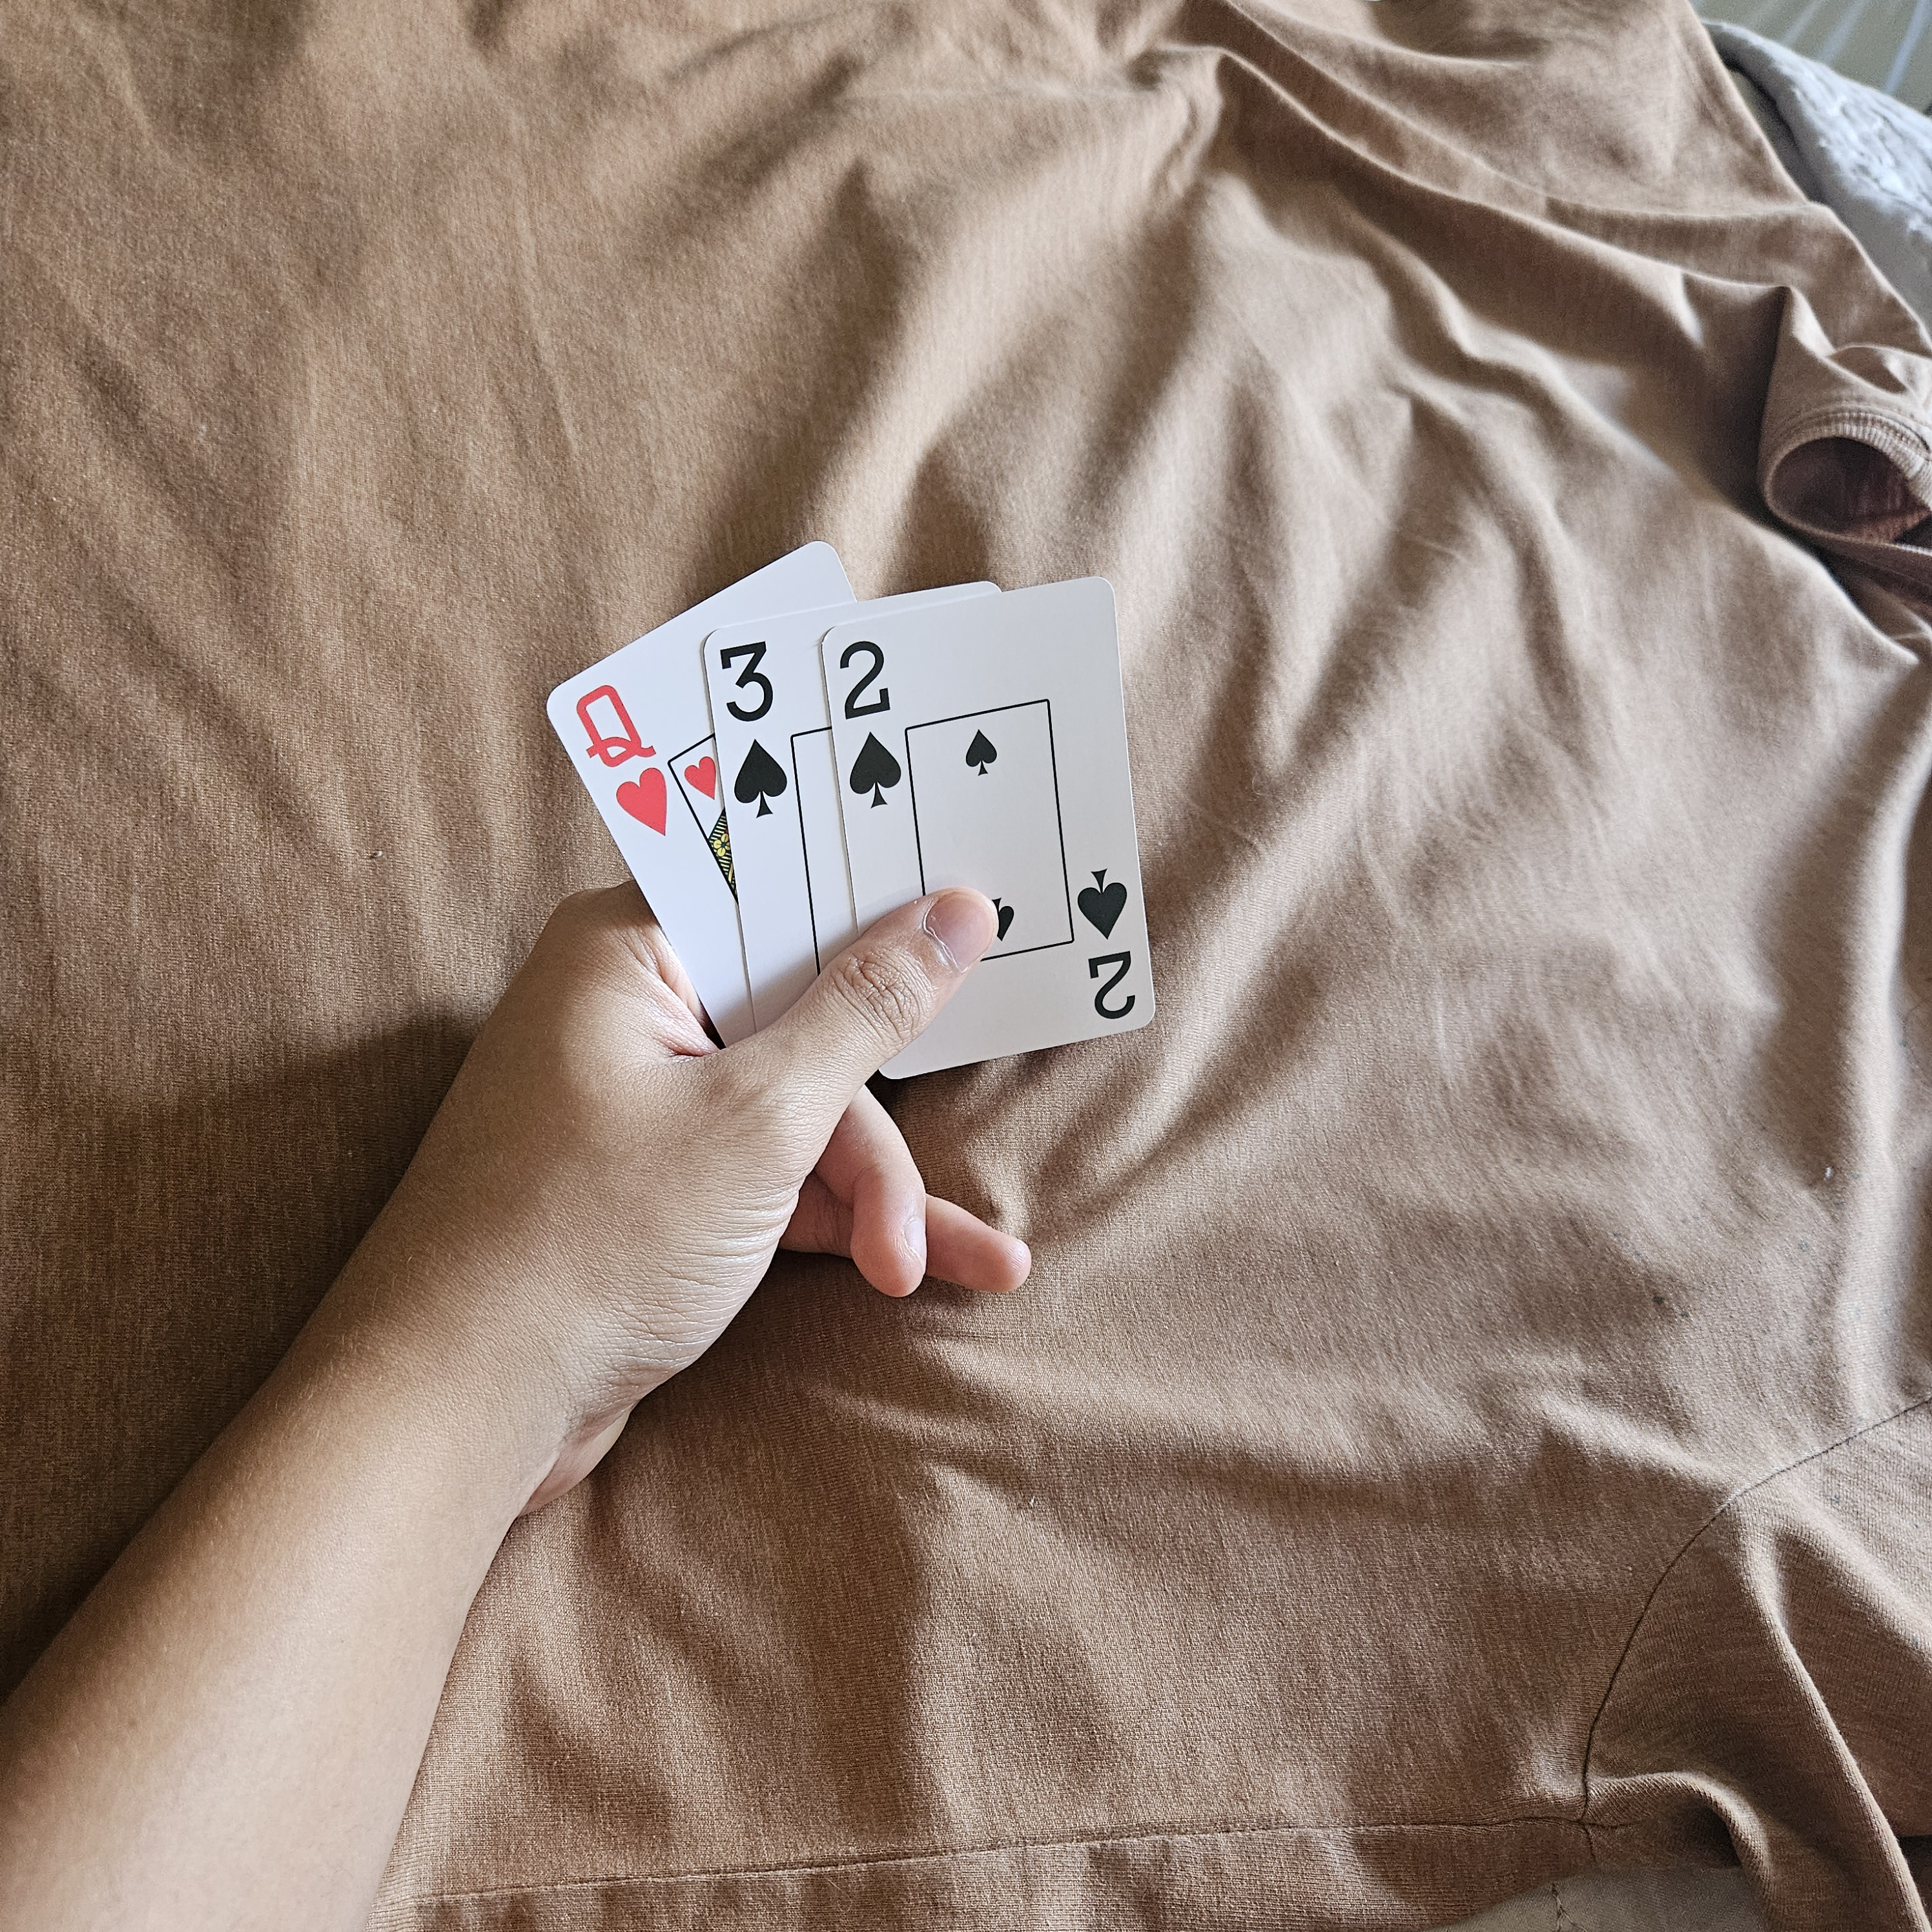2E: (824, 632, 913, 817), (1063, 849, 1150, 1028)
3E: (711, 635, 798, 830)
QC: (566, 676, 678, 837)
